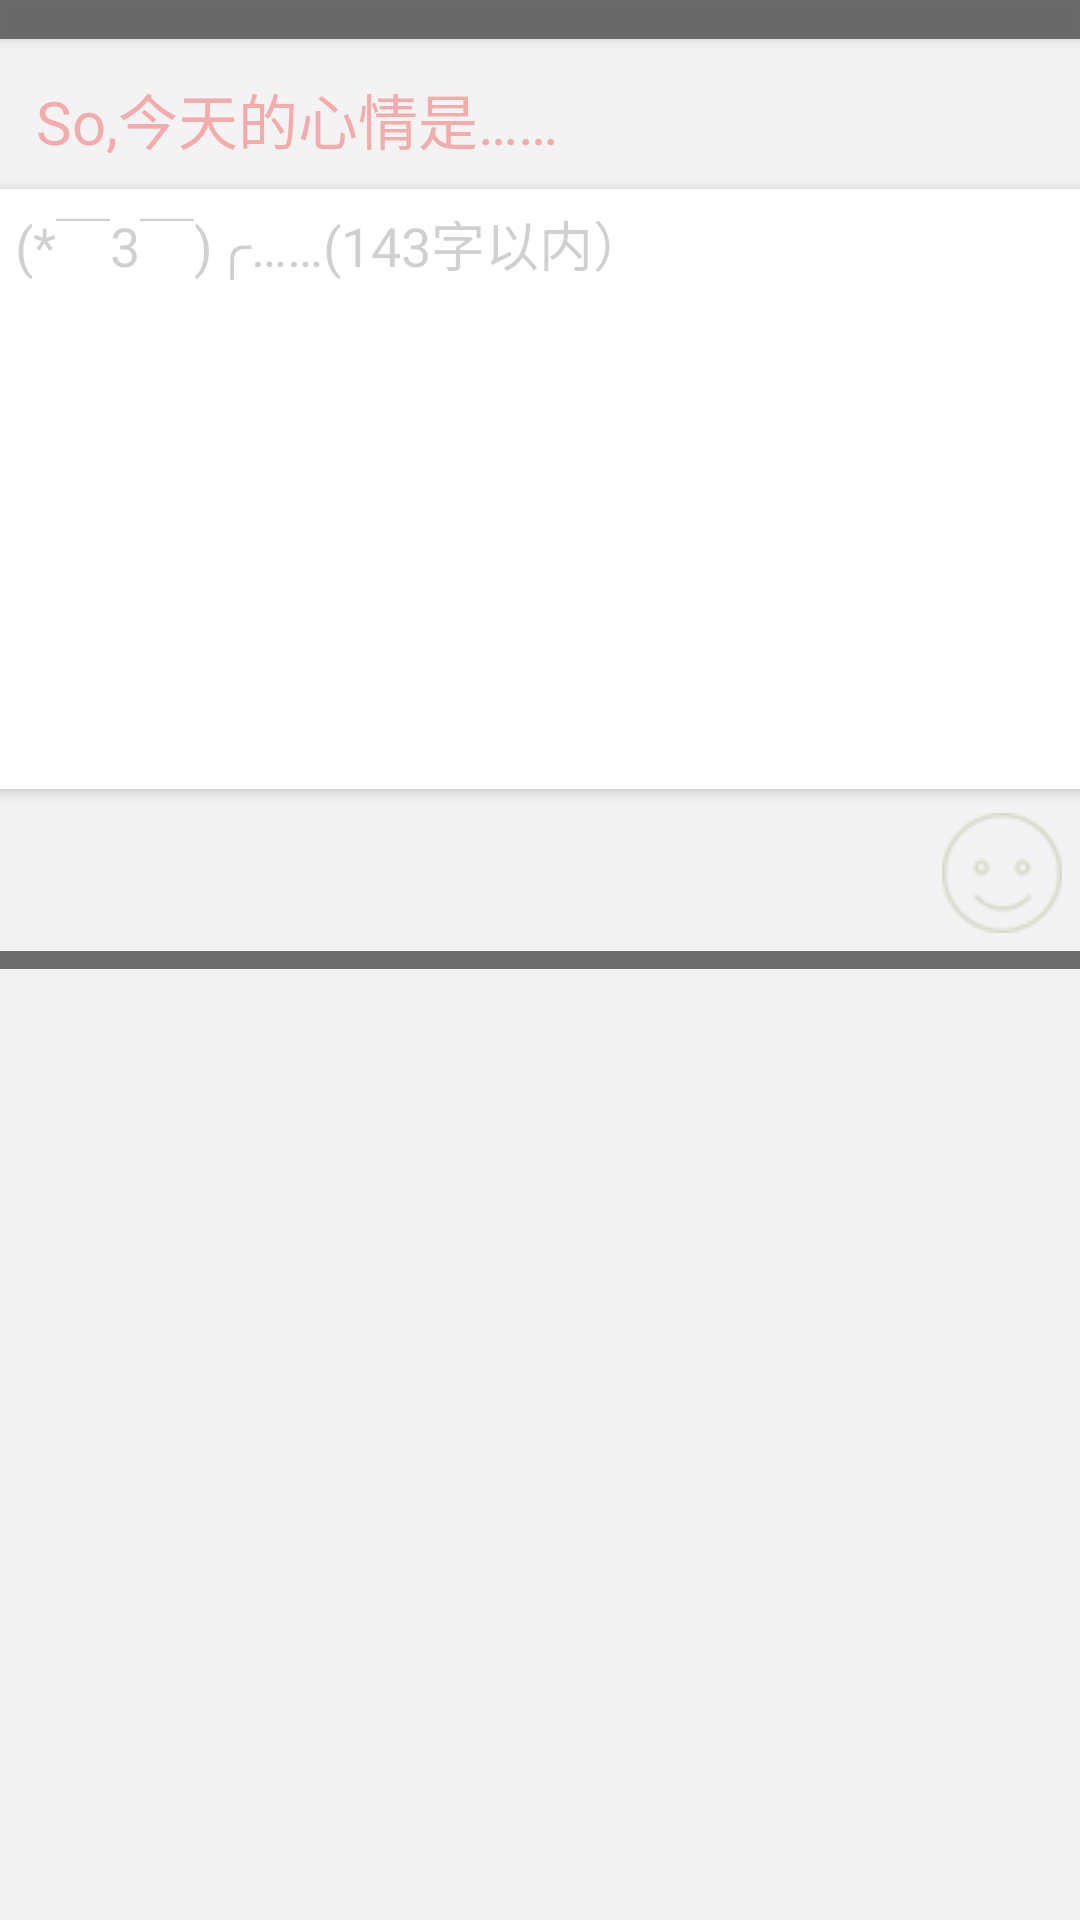

Icon click points for this 1080 × 1920 phone screenshot, format point (x, y):
mood: point (1002, 873)
